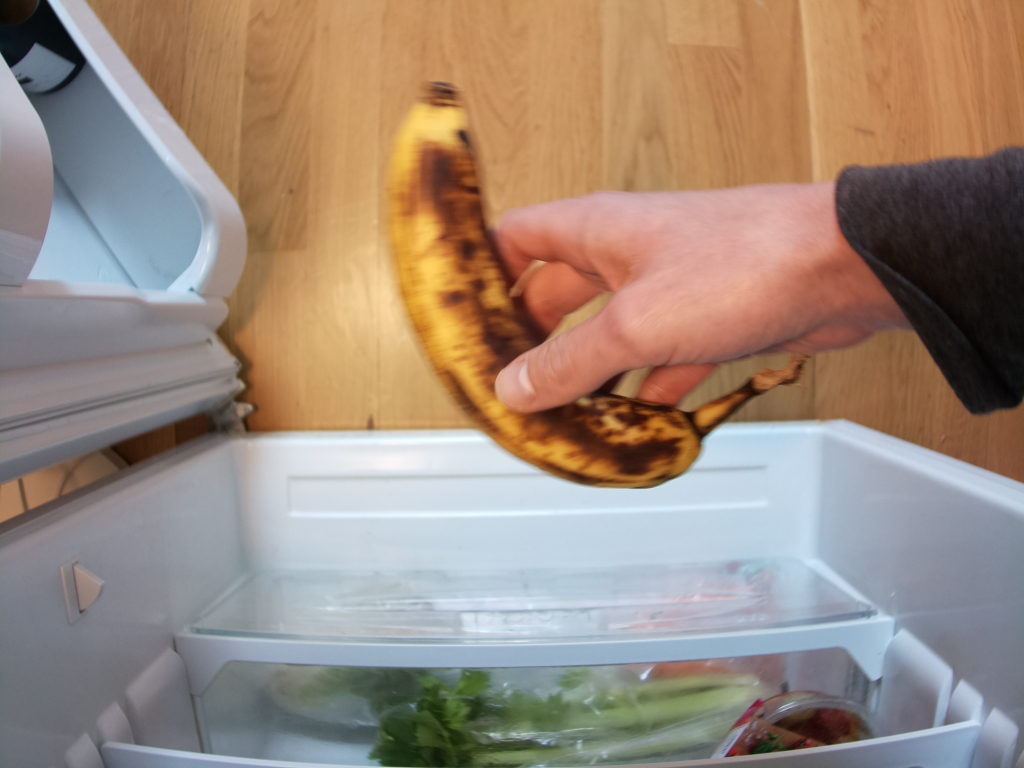banana-overripe: (387, 80, 812, 491)
